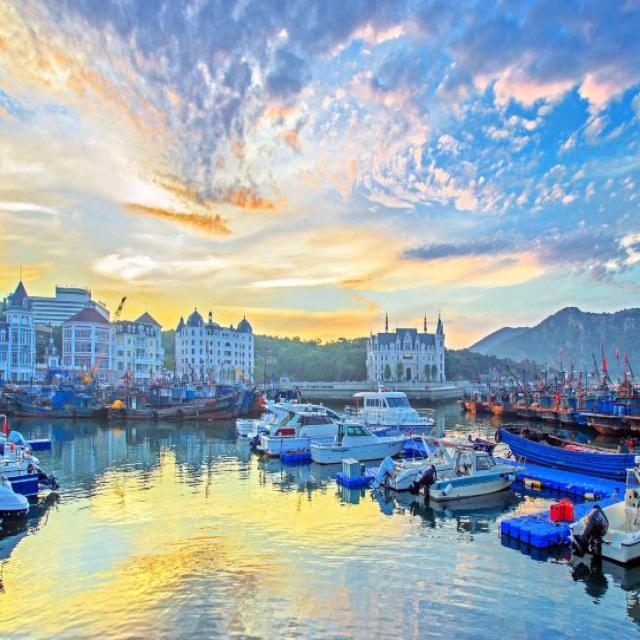houseboat: (260, 404, 340, 448), (348, 395, 441, 429)
